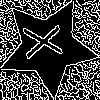X: (23, 21, 72, 60)
